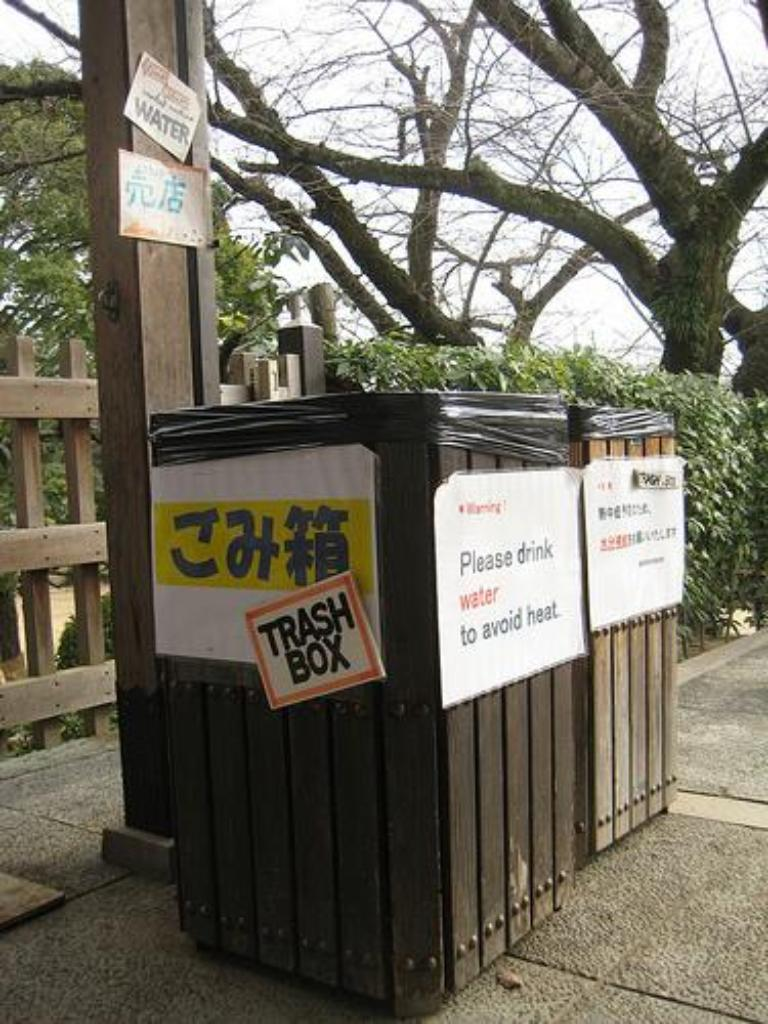dustbin: (143, 395, 581, 976)
